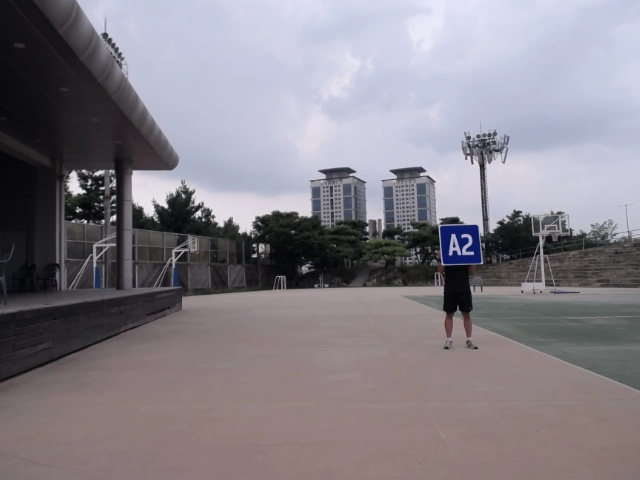delivery_a2: (439, 224, 482, 265)
